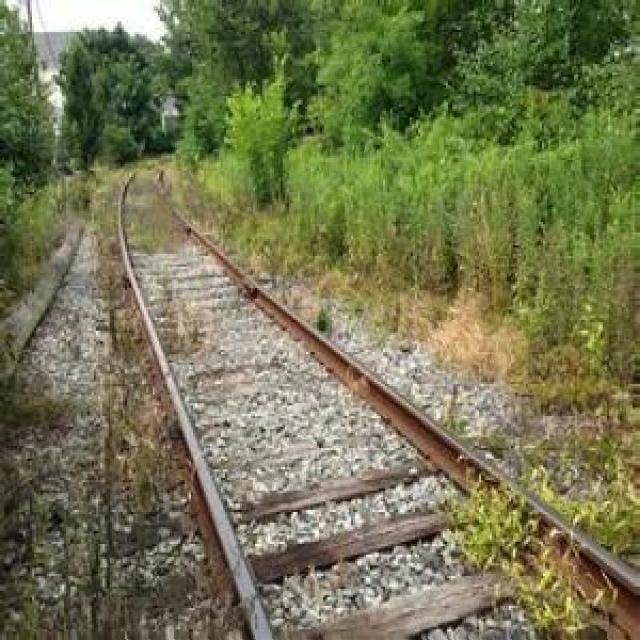rail: (110, 151, 639, 640)
